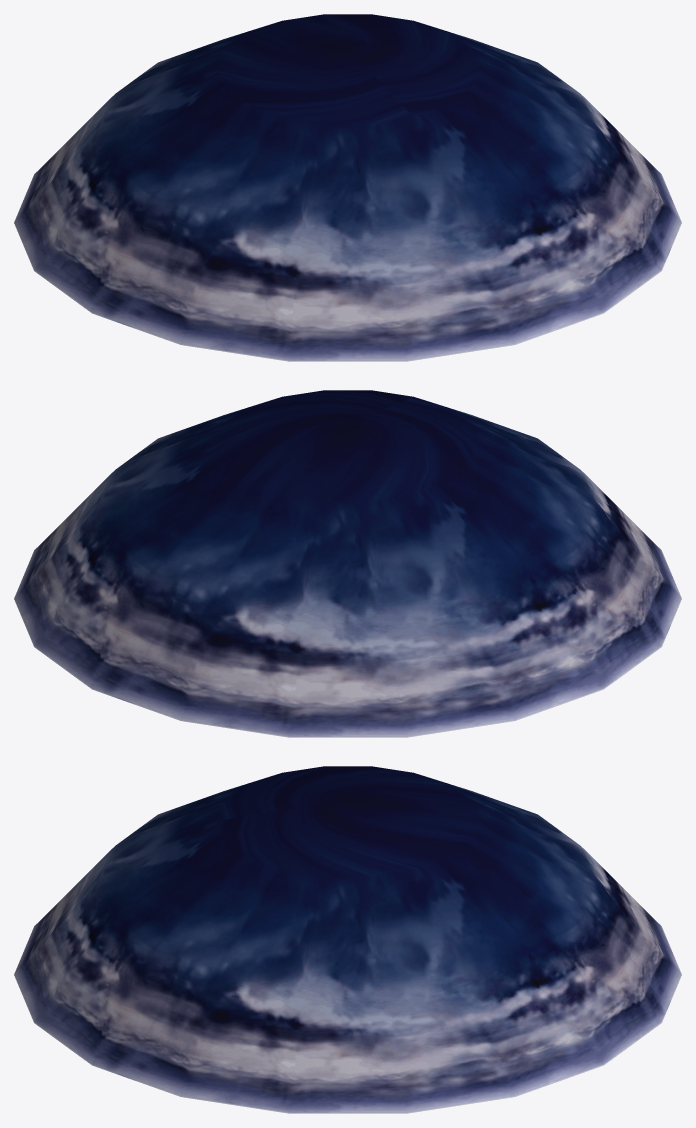
3 renders of one model, top to bottom at view 1: azimuth 30°, elevation 25°; view 2: azimuth 150°, elevation 25°; view 3: azimuth 270°, elevation 25°, orthographic.
Visible parts, largest first — view 1: Sphere02; view 2: Sphere02; view 3: Sphere02.
Part boxes in pixels (x1,y1,x2,y2): Sphere02: (14, 14, 681, 361); Sphere02: (14, 390, 681, 737); Sphere02: (14, 766, 681, 1113).
Size of the model in its own units: 1797 by 527 by 1824.
